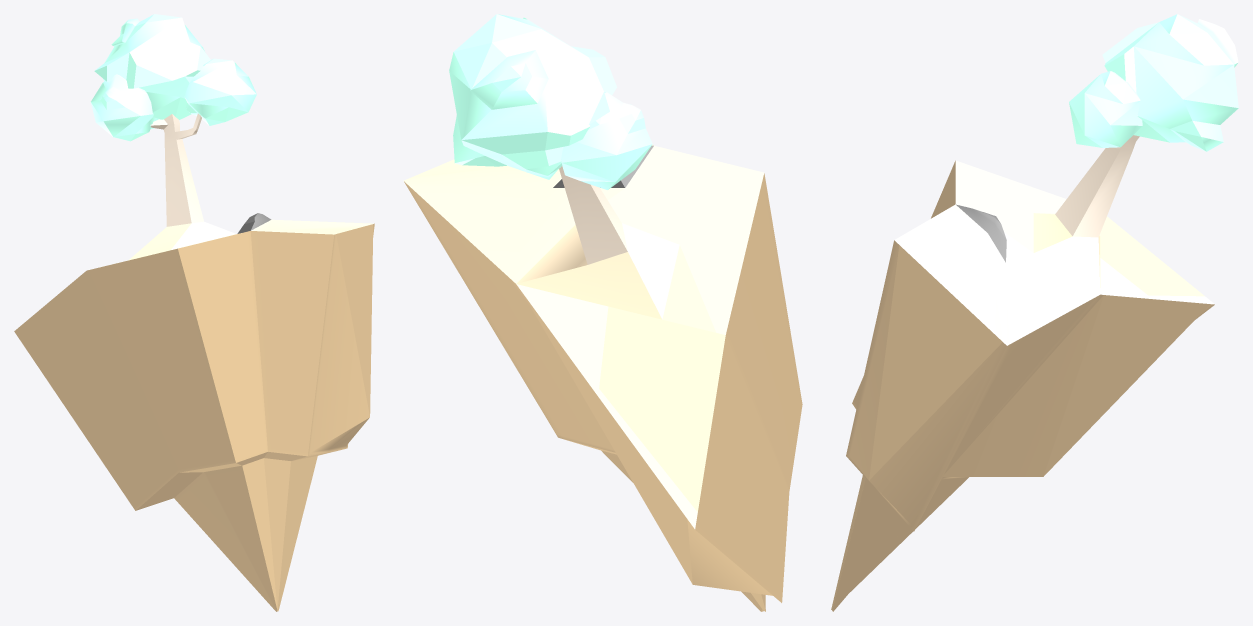
Rendered from chunk15.fbx.
3 views of the same model, side by side, from view 1: azimuth 30°, elevation 25°; view 2: azimuth 150°, elevation 25°; view 3: azimuth 270°, elevation 25° (orthographic). The views are drawn at different scales.
Parts seen in each view (by area): view 1: chunk15; view 2: chunk15; view 3: chunk15.
Part boxes in pixels (<box>): chunk15: <box>14,14,374,611</box>; chunk15: <box>403,14,802,611</box>; chunk15: <box>831,14,1238,611</box>.
Bounding box in the file's own units: 3.63 × 6.08 × 3.73.
